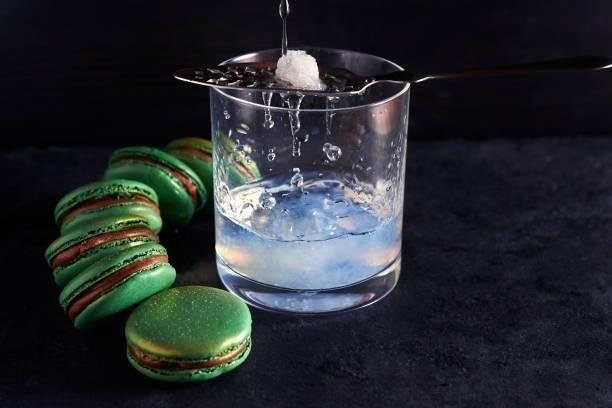glass-normal: (207, 44, 413, 316)
